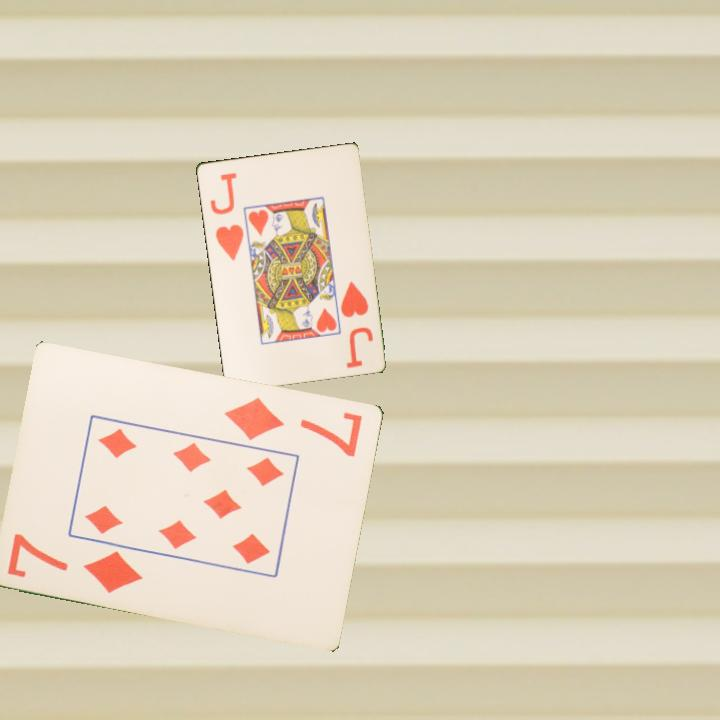7d: (221, 393, 366, 459), (4, 529, 146, 596)
Jh: (206, 169, 246, 264), (337, 277, 371, 320)
